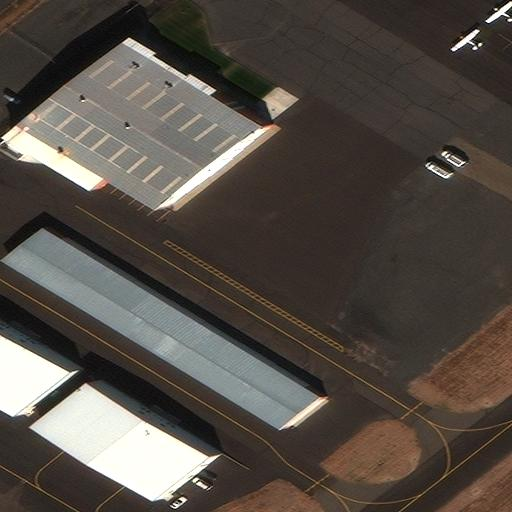Small Civil Transport: (449, 27, 479, 49), (484, 0, 511, 21)
